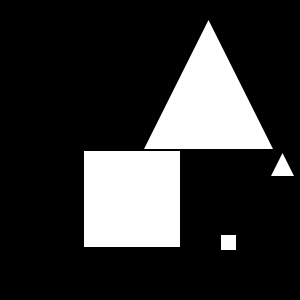circle: (84, 151, 180, 247), (221, 235, 236, 250)
triangle: (144, 20, 273, 149), (271, 153, 294, 176)
